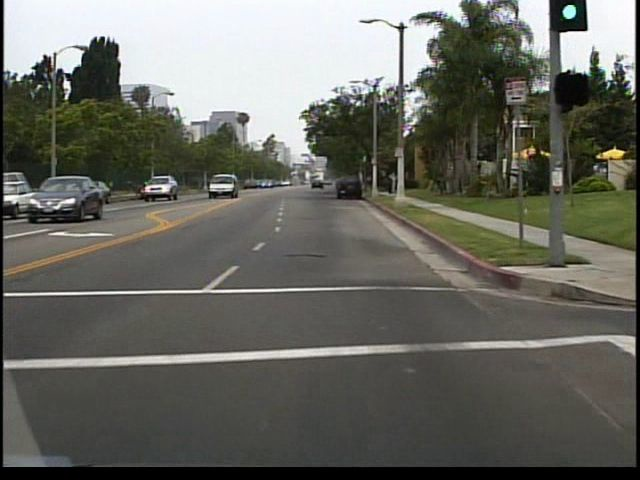person: (389, 171, 401, 195), (389, 174, 392, 194)
